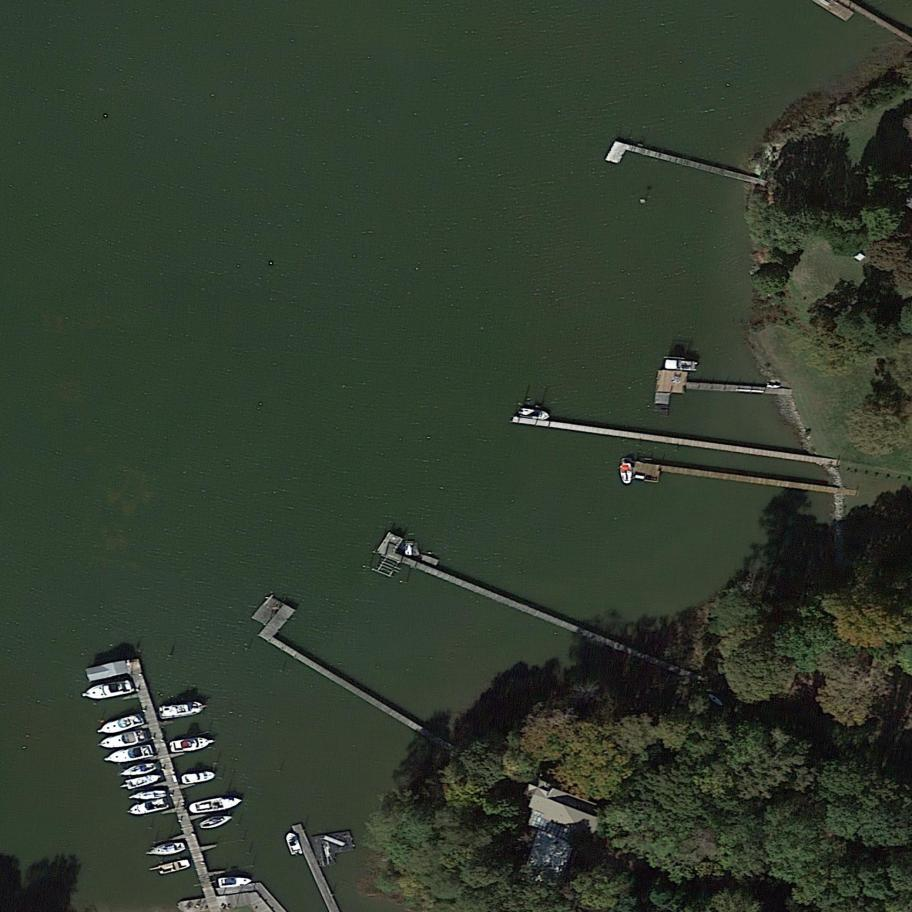ship: (94, 712, 149, 739), (100, 743, 156, 769), (77, 679, 136, 703), (187, 792, 246, 815), (96, 729, 152, 753), (117, 770, 167, 794), (125, 795, 171, 820), (142, 838, 190, 860), (157, 701, 212, 720), (146, 856, 193, 878), (169, 735, 218, 755), (197, 810, 238, 833), (119, 760, 160, 779), (180, 769, 219, 785), (283, 830, 304, 857), (515, 406, 552, 421), (127, 789, 168, 802), (214, 875, 255, 888), (618, 456, 635, 485), (662, 359, 699, 371), (705, 691, 726, 709), (405, 539, 415, 556)
